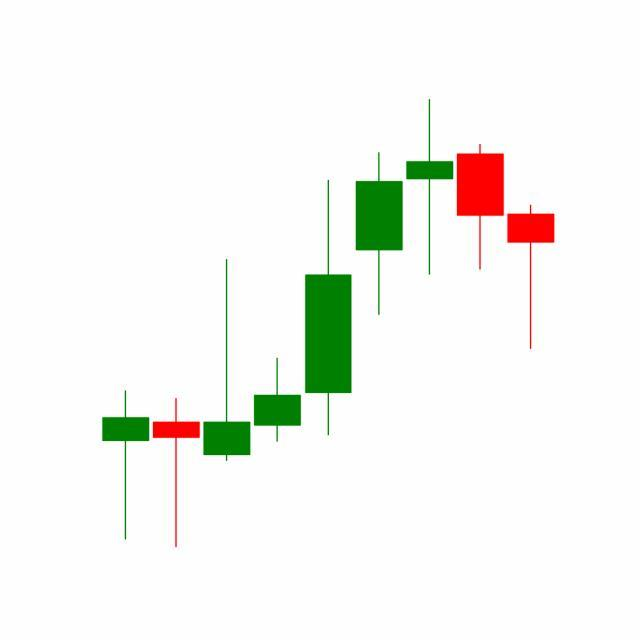Hikkake Pattern: (302, 99, 555, 440)
